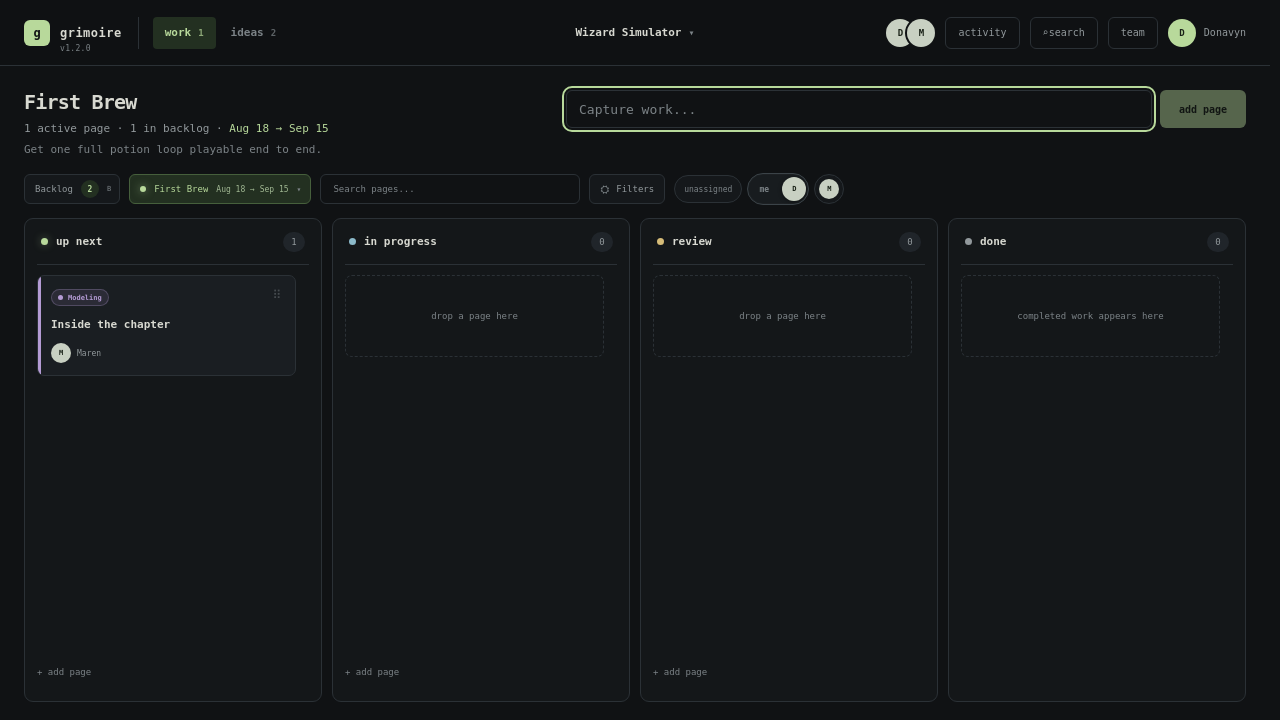
Test: chapters on the board › filters to pages nobody has placed
What coordinates should you click on to do the following:
click the button with aria-label "Filter by chapter"
I would click on:
 (220, 189)
Its box is [129,174,312,204].
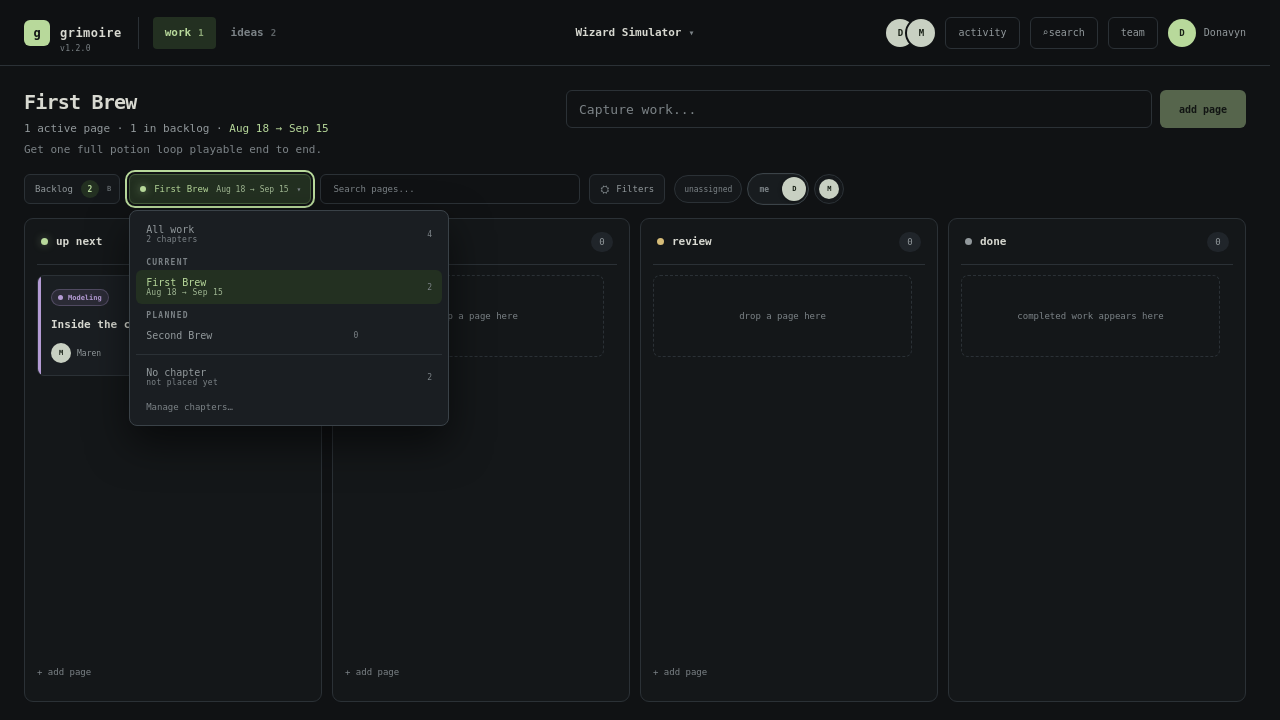
What coordinates should you click on to do the following:
click the menu item "No chapter not placed yet 2"
I would click on:
 (176, 372)
Its box is [136,360,442,394].
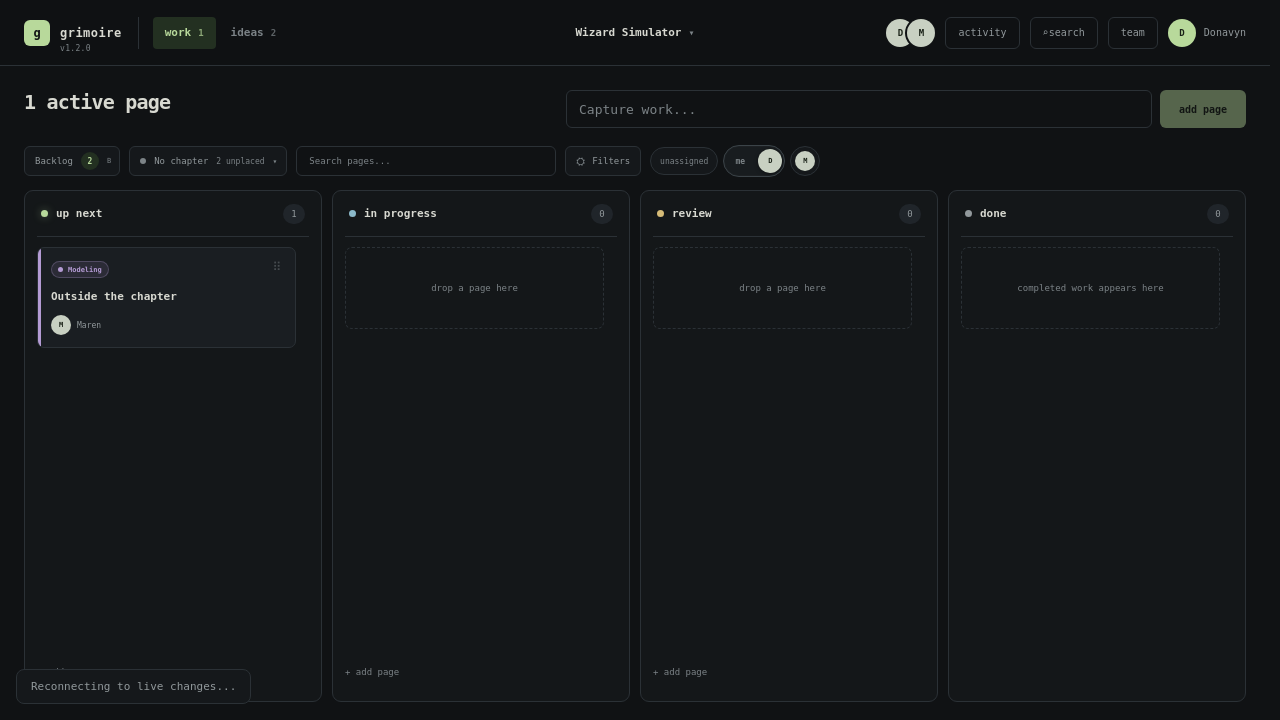
Check: the text "Outside the chapter" is shown, box [51,290,177,303]
Check: the button "Inside the chapter" is gone
